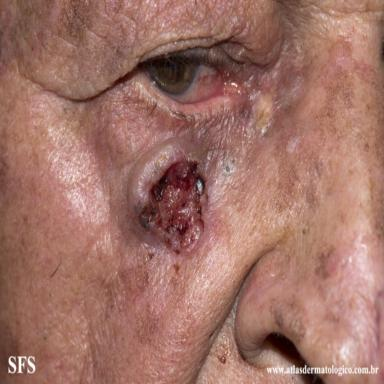basal-cell-carcinoma: (129, 138, 208, 258)
